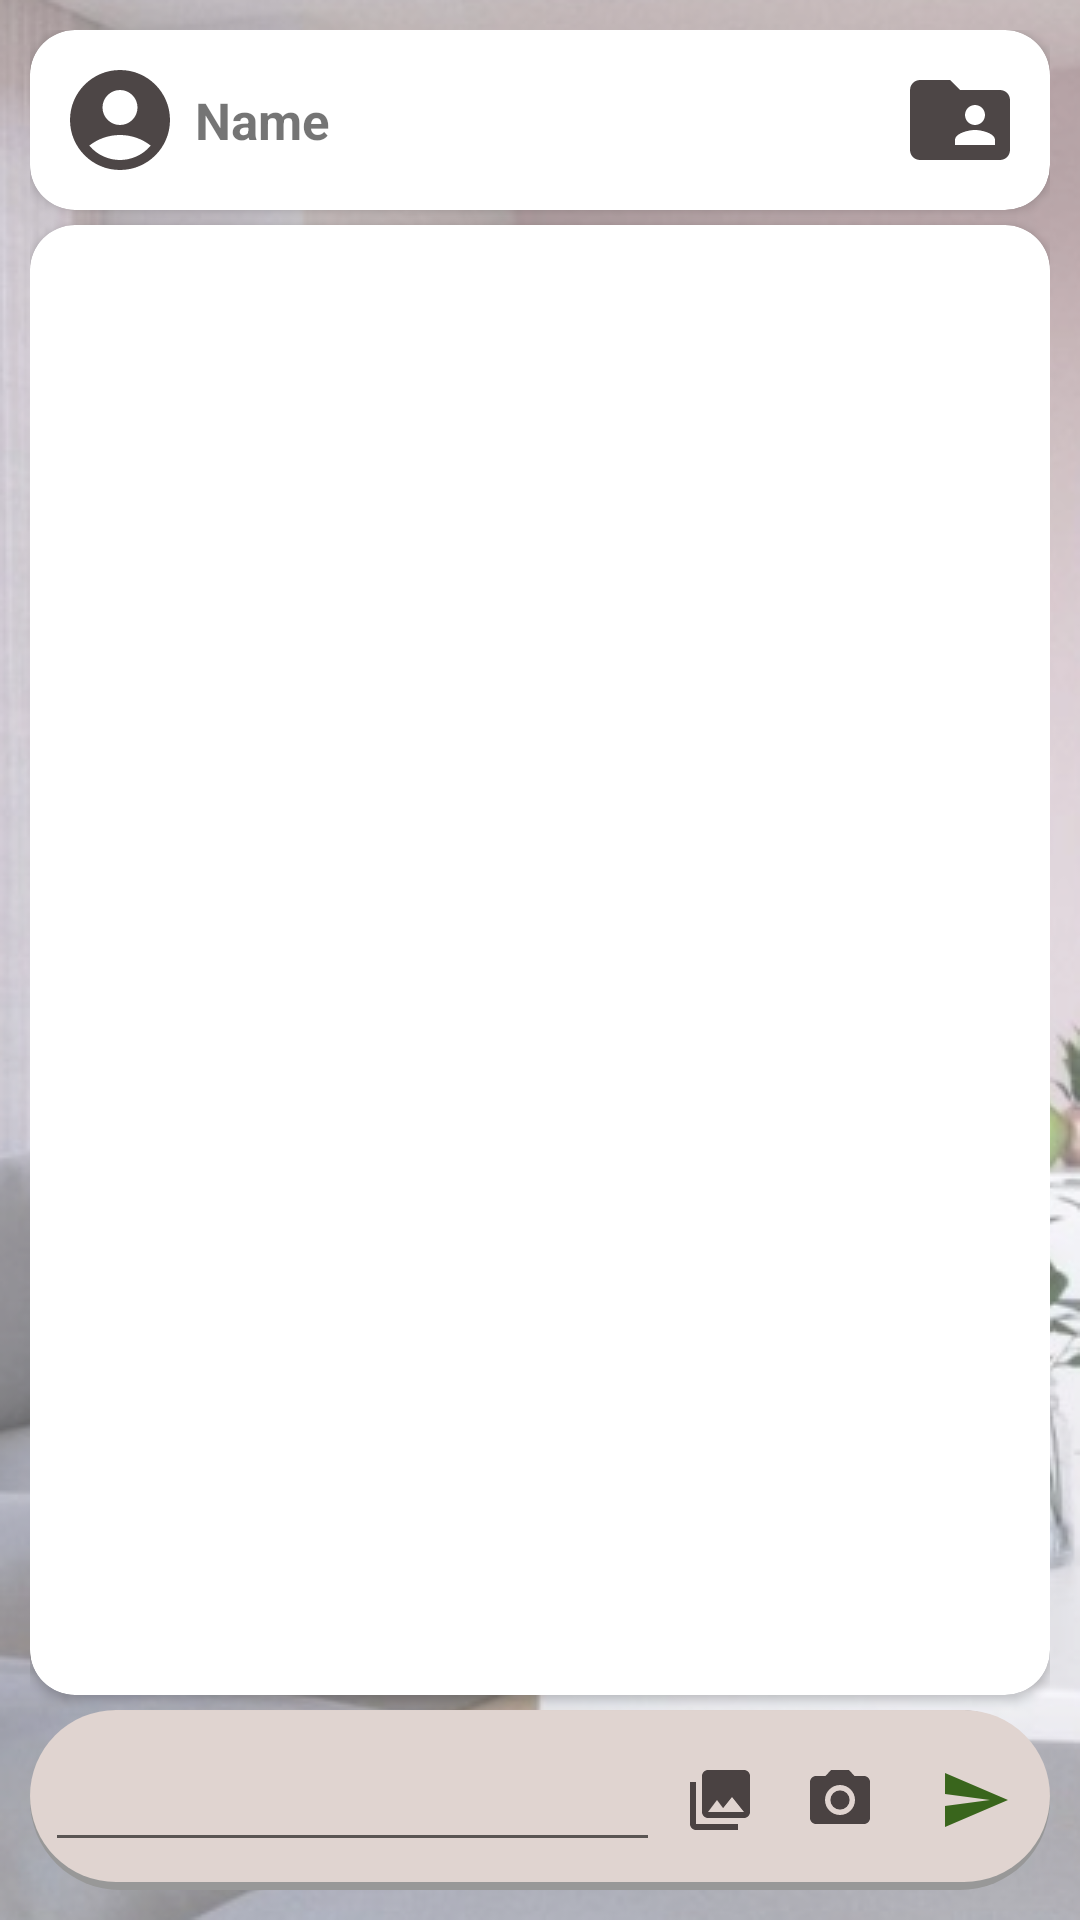

Screen size 1080×1920. Icon name, then its box in pixels as (x1, y1, x2, y2):
account circle: (70, 70, 170, 170)
folder shared: (910, 80, 1010, 160)
photo camera: (810, 1770, 870, 1824)
photo library: (690, 1770, 750, 1830)
